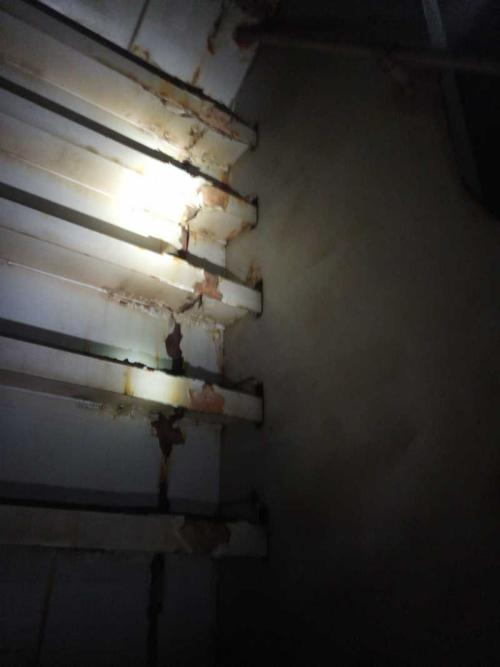corrosion: (140, 300, 190, 385), (144, 411, 185, 505), (153, 88, 230, 129), (184, 379, 229, 420), (196, 179, 235, 219), (192, 267, 227, 304), (178, 124, 215, 159), (188, 220, 229, 243)
